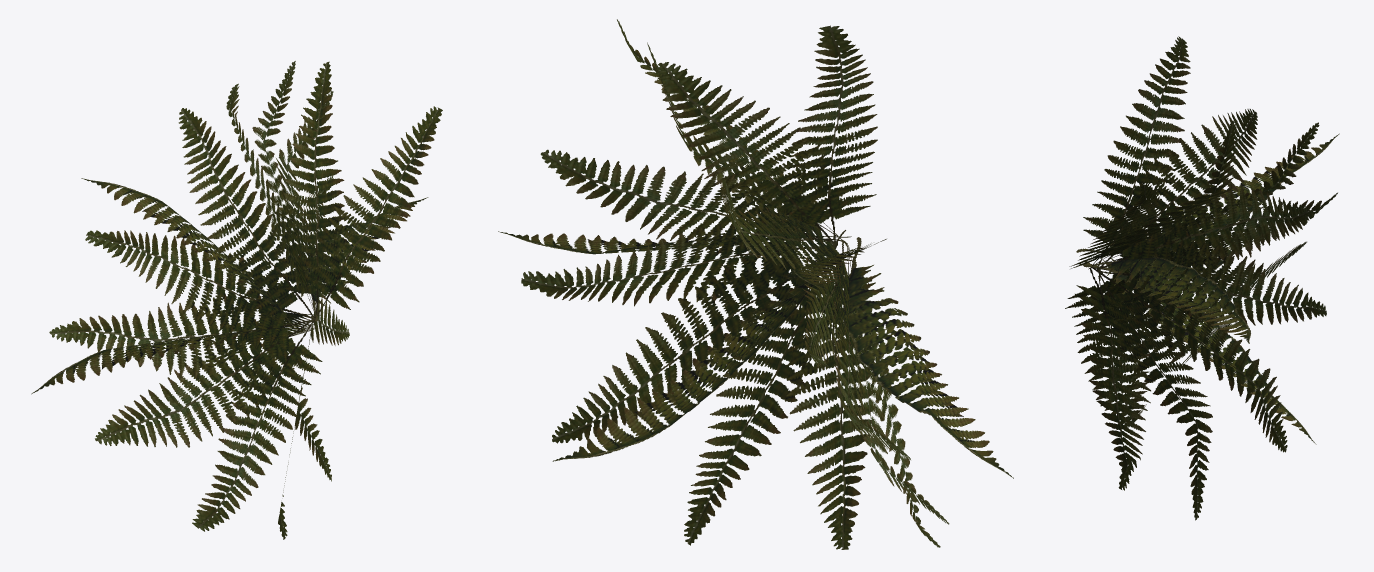
Rendered from MEP_Fern_05.fbx.
3 views of the same model, side by side, from view 1: azimuth 30°, elevation 25°; view 2: azimuth 150°, elevation 25°; view 3: azimuth 270°, elevation 25° (orthographic). The views are drawn at different scales.
Parts seen in each view (by area): view 1: MEP_Fern_05; view 2: MEP_Fern_05; view 3: MEP_Fern_05.
Boxes of the visible parts, bbox=[...] form: MEP_Fern_05: bbox=[31, 61, 442, 539]; MEP_Fern_05: bbox=[498, 19, 1013, 549]; MEP_Fern_05: bbox=[1065, 36, 1339, 520].
Size of the model in its own units: 1.94 by 2 by 1.2.
